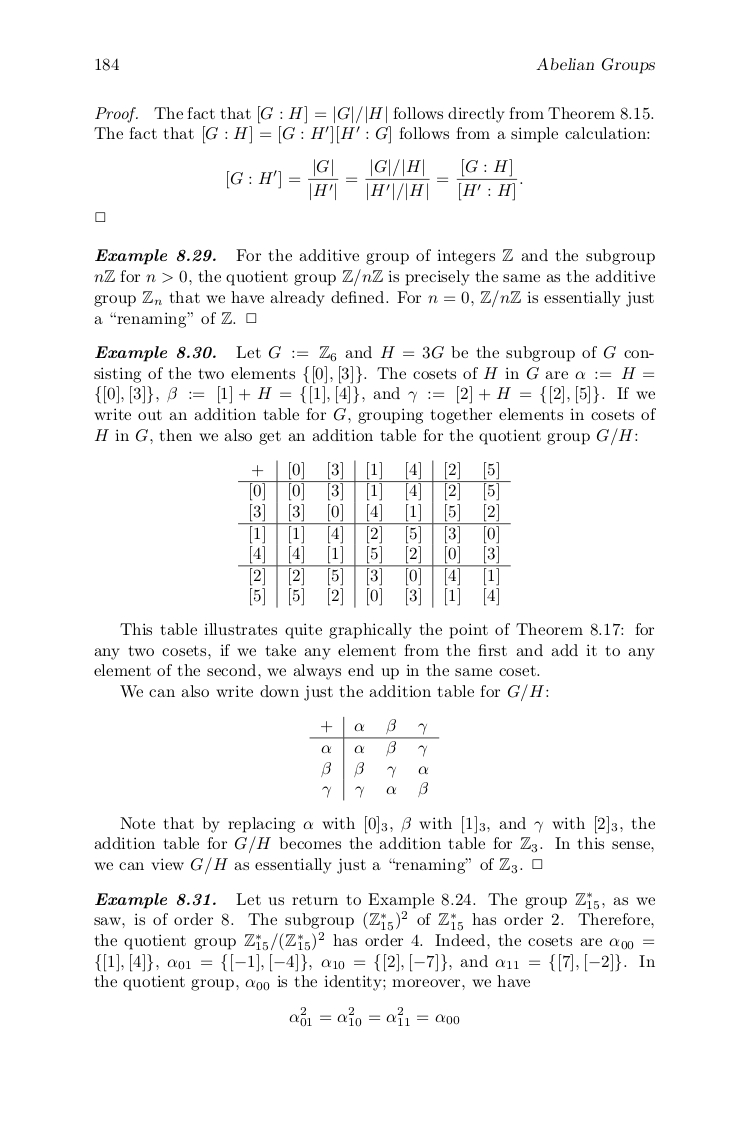Table: (238, 459, 510, 608), (309, 715, 439, 801)
formula: (227, 158, 522, 201), (289, 1005, 459, 1027)
